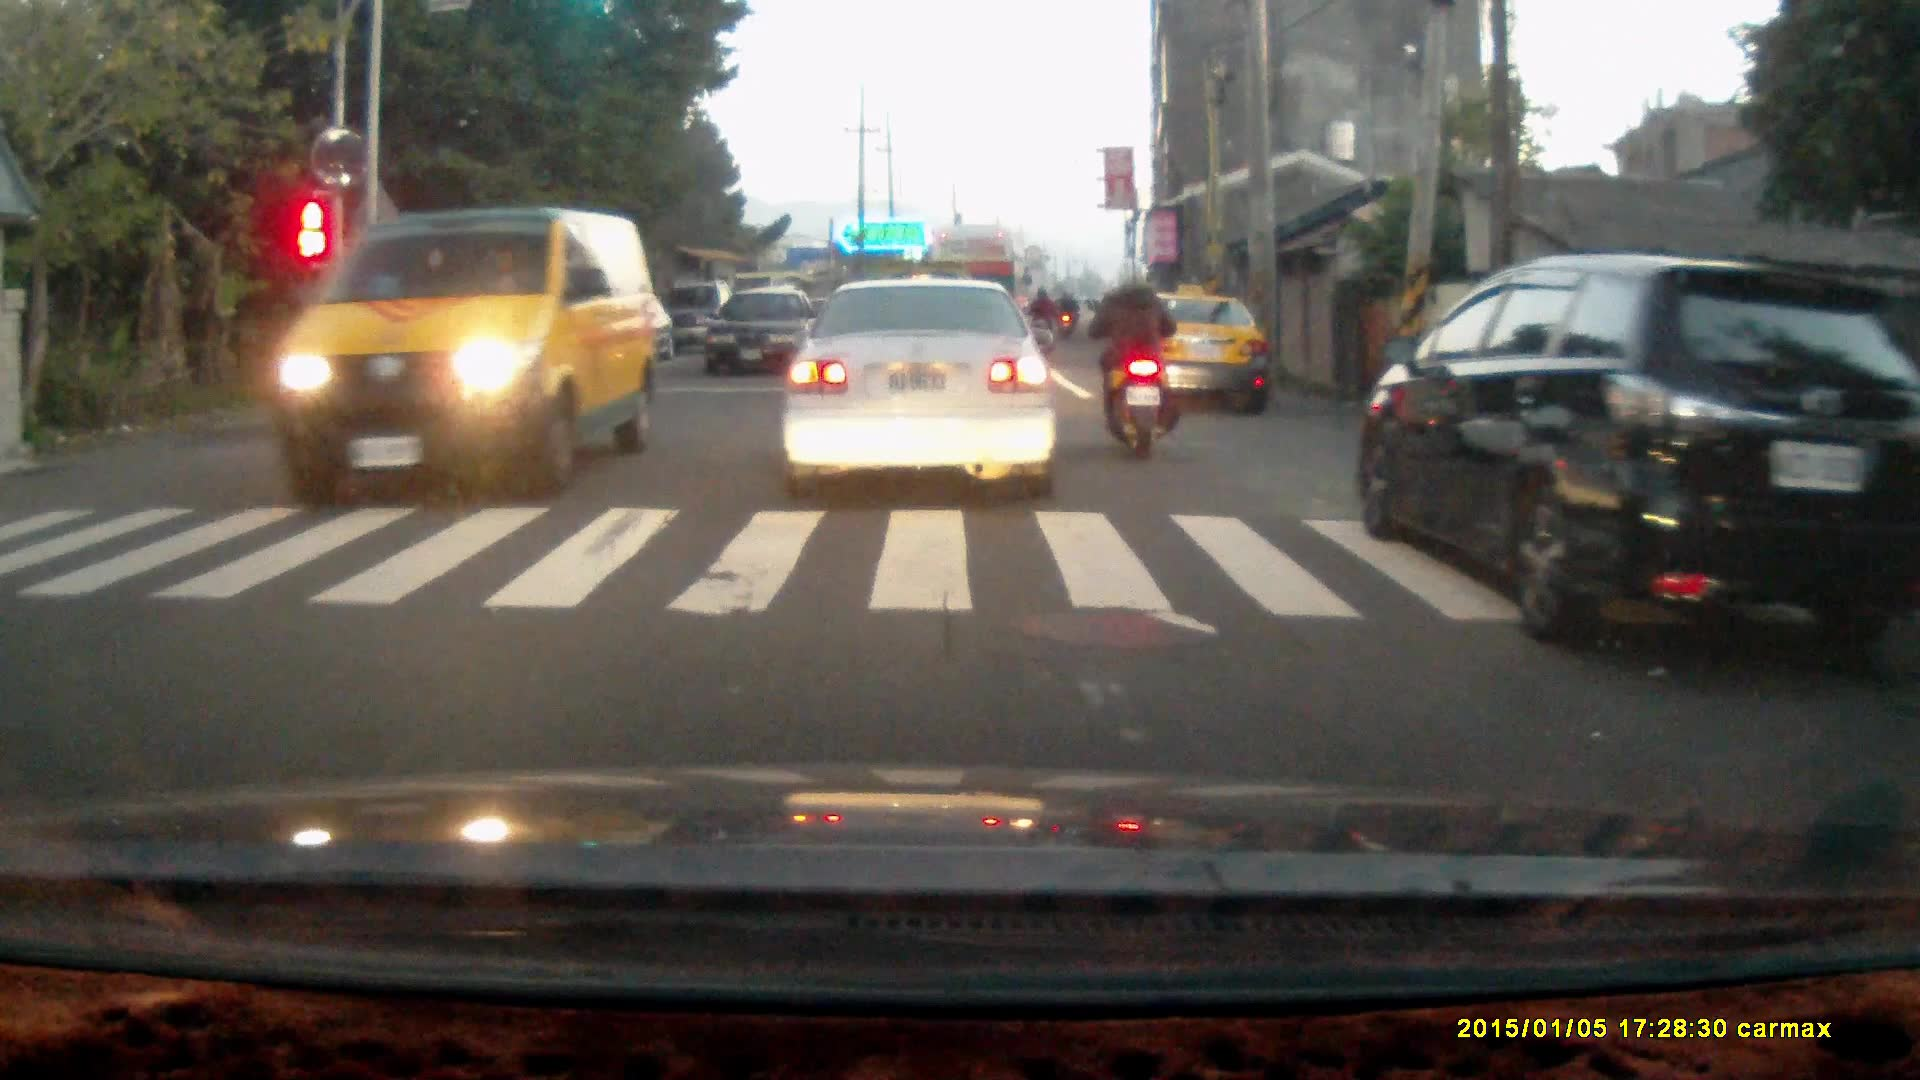rider: (1080, 255, 1175, 461)
vehicle: (1355, 249, 1920, 691), (278, 206, 659, 497), (781, 271, 1062, 500), (1112, 290, 1269, 418), (922, 223, 1022, 363), (705, 285, 821, 380)
